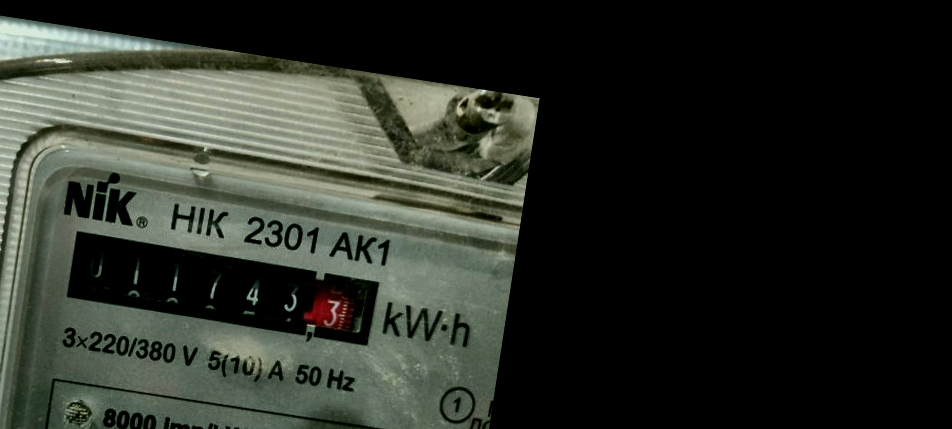0: (83, 244, 107, 282)
1: (165, 257, 185, 293), (129, 252, 144, 286)
3: (277, 278, 302, 315), (319, 296, 342, 332)
4: (241, 272, 263, 308)
7: (203, 265, 226, 301)
screen: (49, 217, 394, 360)
